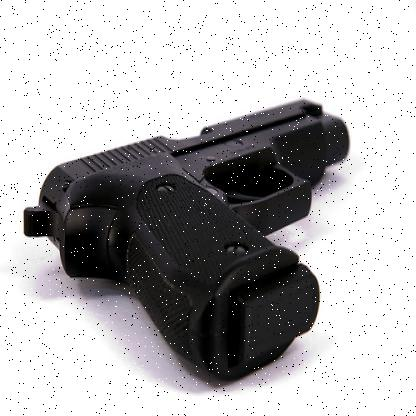pistol: (23, 96, 350, 373)
